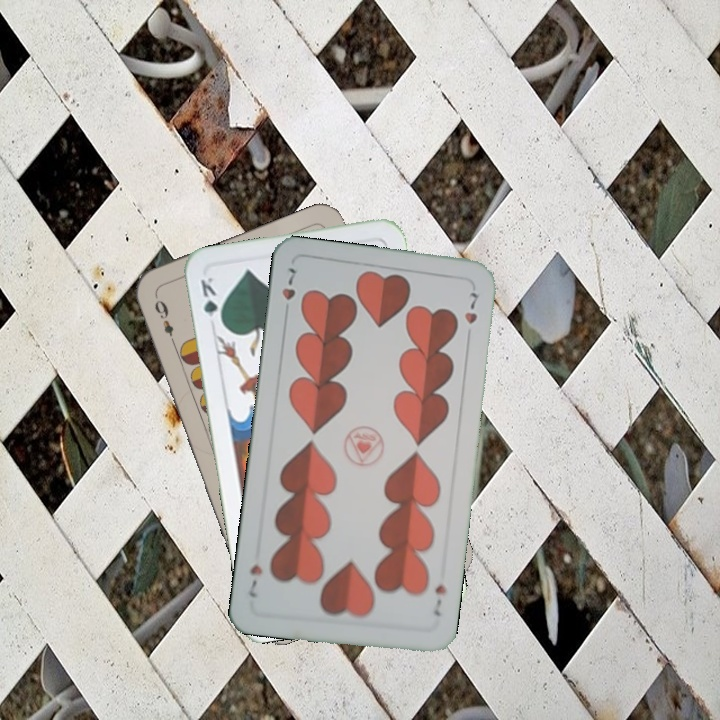E9: (150, 291, 179, 349)
GK: (196, 273, 225, 329)
H7: (278, 264, 299, 320), (429, 580, 449, 619)
